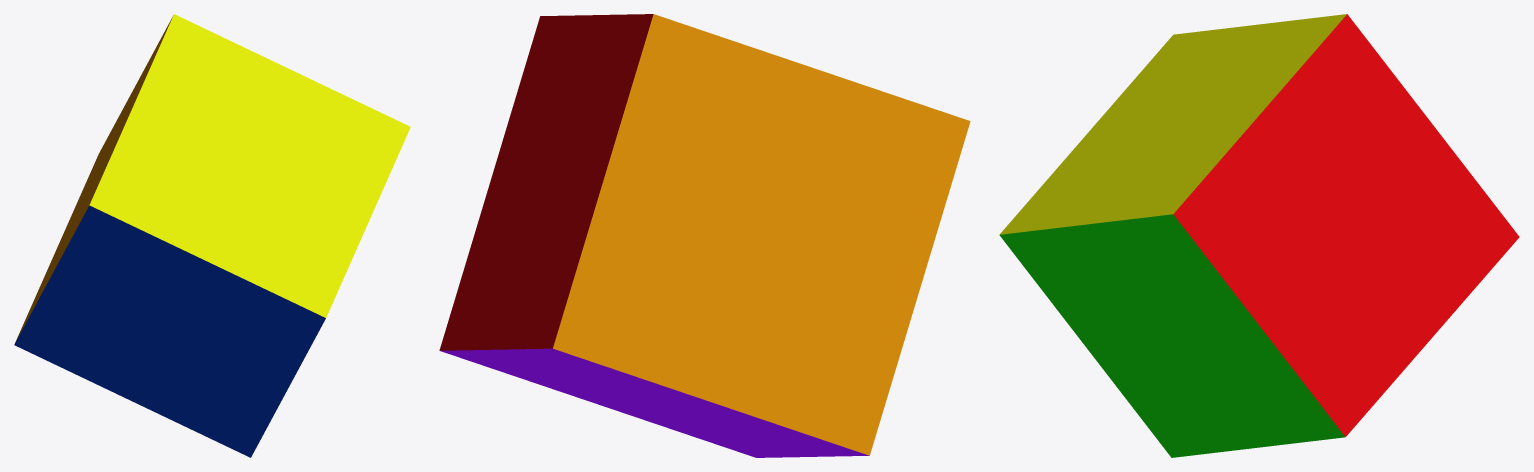
3 renders of one model, left to right at view 1: azimuth 30°, elevation 25°; view 2: azimuth 150°, elevation 25°; view 3: azimuth 270°, elevation 25°, orthographic. The views are drawn at different scales.
Visible parts, largest first — view 1: Cube.001; view 2: Cube.001; view 3: Cube.001.
Boxes of the visible parts, x1,y1,x2,y2 form: Cube.001: (14, 14, 410, 457); Cube.001: (439, 14, 970, 457); Cube.001: (999, 14, 1519, 457).
Bounding box in the file's own units: 1.33 × 1.53 × 1.62.
